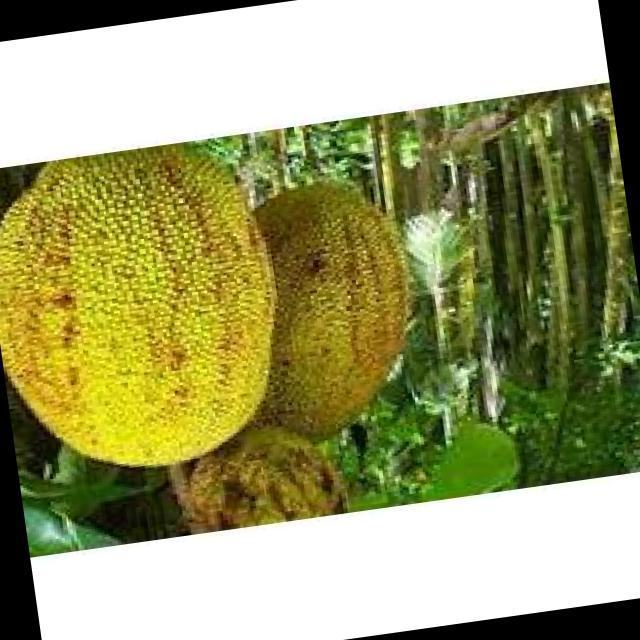Fruit: (0, 130, 314, 501), (207, 146, 453, 477)
